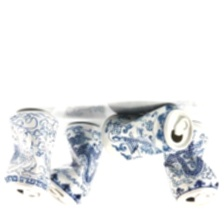can: (99, 101, 196, 164), (2, 107, 60, 202), (160, 120, 220, 208), (47, 121, 104, 213)
